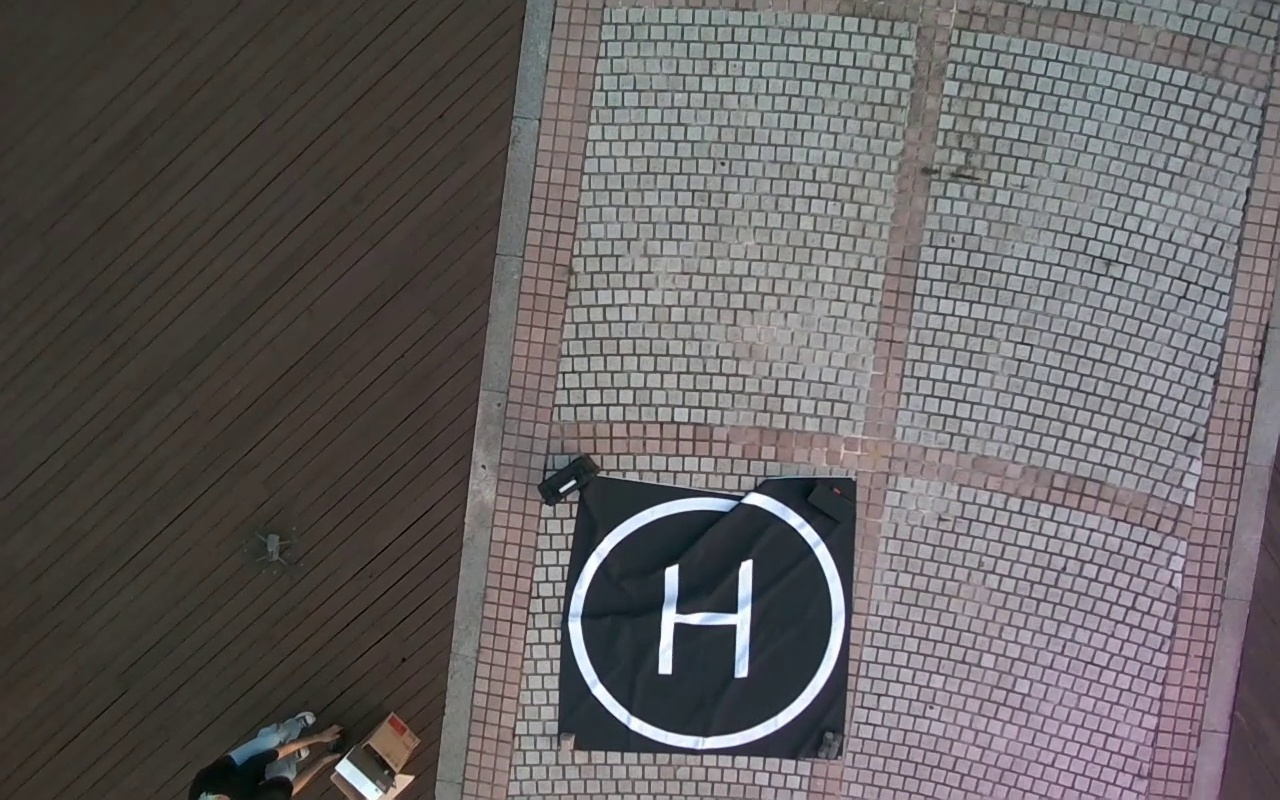H: (656, 559, 753, 678)
